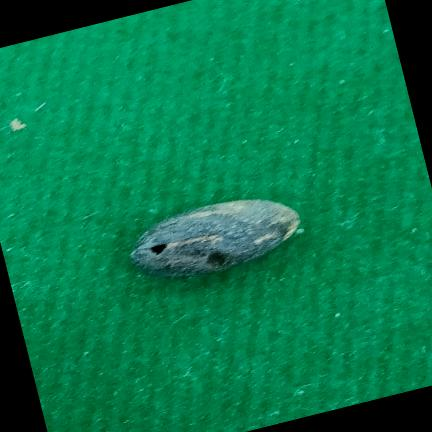partial-black: (130, 199, 300, 276)
